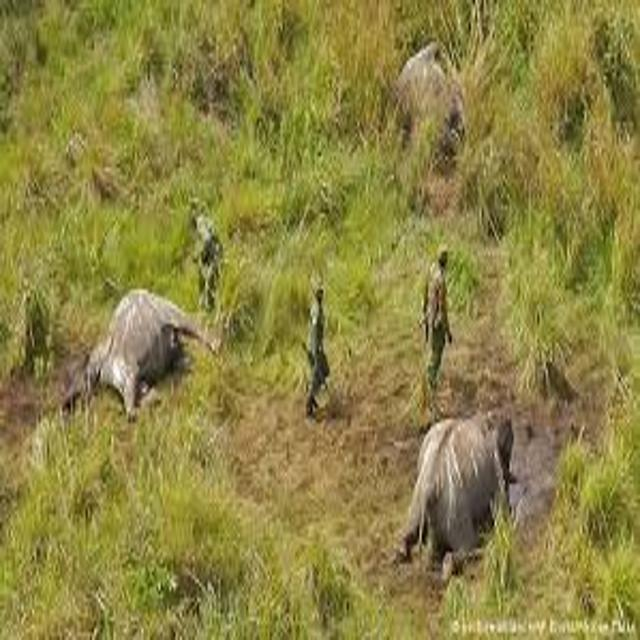poacher: (263, 256, 379, 458), (386, 218, 489, 412), (152, 163, 255, 343)
rhino: (359, 375, 559, 617), (38, 264, 249, 469)
